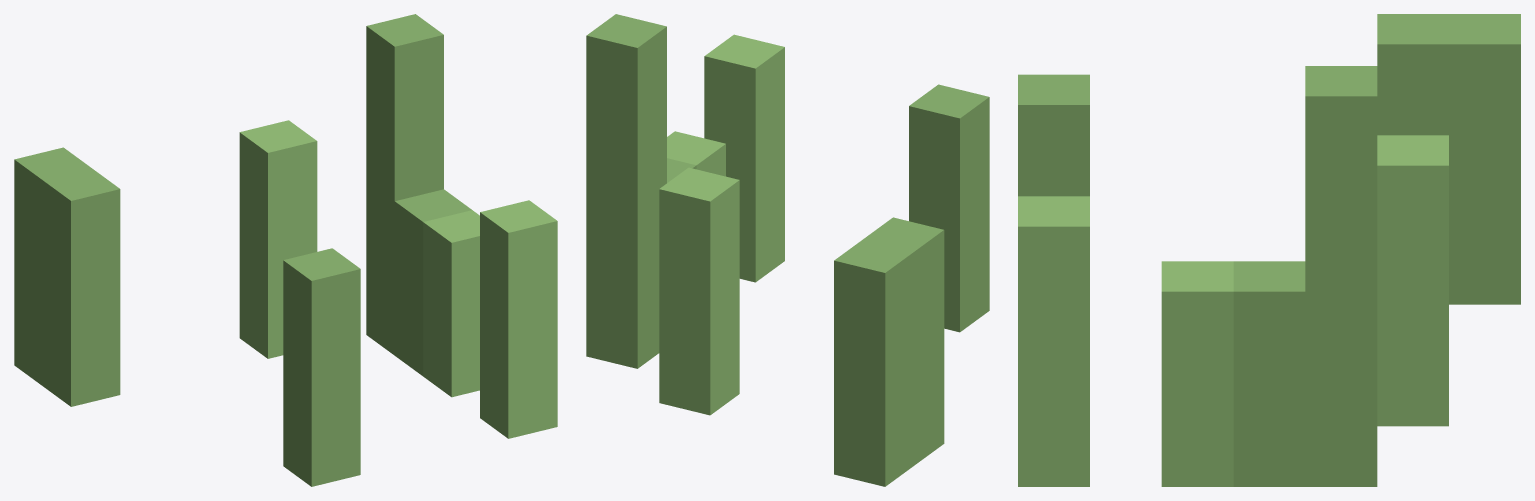
The model's file is hierba_corta_04.glb.
3 renders of one model, left to right at view 1: azimuth 30°, elevation 25°; view 2: azimuth 150°, elevation 25°; view 3: azimuth 270°, elevation 25°, orthographic. The views are drawn at different scales.
Visible parts, largest first — view 1: hierba_corta_04; view 2: hierba_corta_04; view 3: hierba_corta_04.
Part boxes in pixels (box(x1,y1,x2,y2)): hierba_corta_04: box(14, 14, 557, 486); hierba_corta_04: box(586, 14, 989, 486); hierba_corta_04: box(1018, 14, 1520, 486).
Size of the model in its own units: 0.7 by 0.6 by 0.7.
